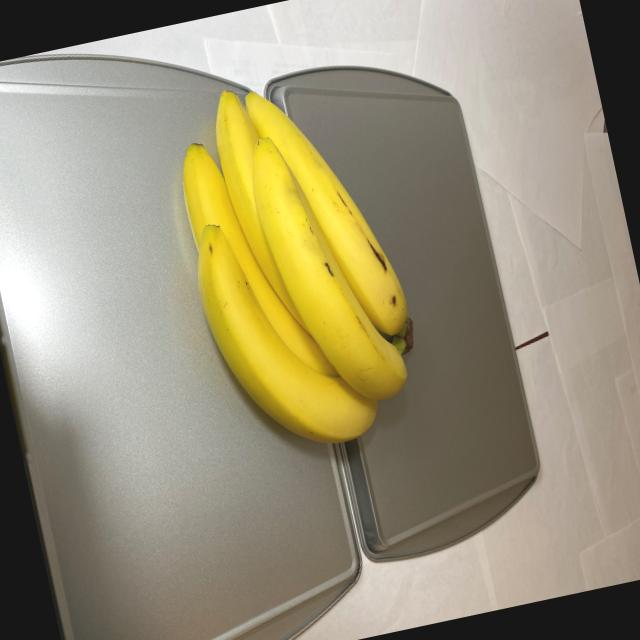banana: (149, 59, 434, 468)
